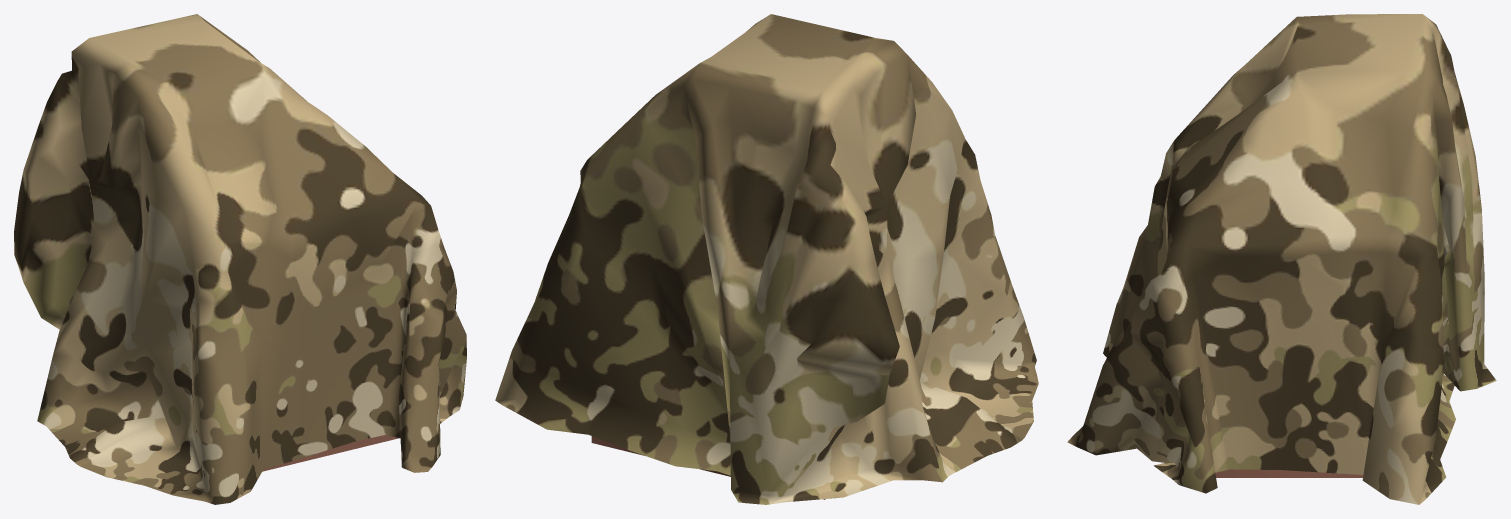
Rendered from box_with_tarp.glb.
The picture shows the model from 3 angles, left to right: view 1: azimuth 30°, elevation 25°; view 2: azimuth 150°, elevation 25°; view 3: azimuth 270°, elevation 25°; orthographic projection. The views are drawn at different scales.
Parts seen in each view (by area): view 1: box_002; view 2: box_002; view 3: box_002.
Part boxes in pixels (x1,y1,x2,y2): box_002: (14, 14, 466, 504); box_002: (495, 14, 1038, 504); box_002: (1067, 14, 1496, 504).
Size of the model in its own units: 2.64 by 2.38 by 2.54.
2 materials, 2 textured.
